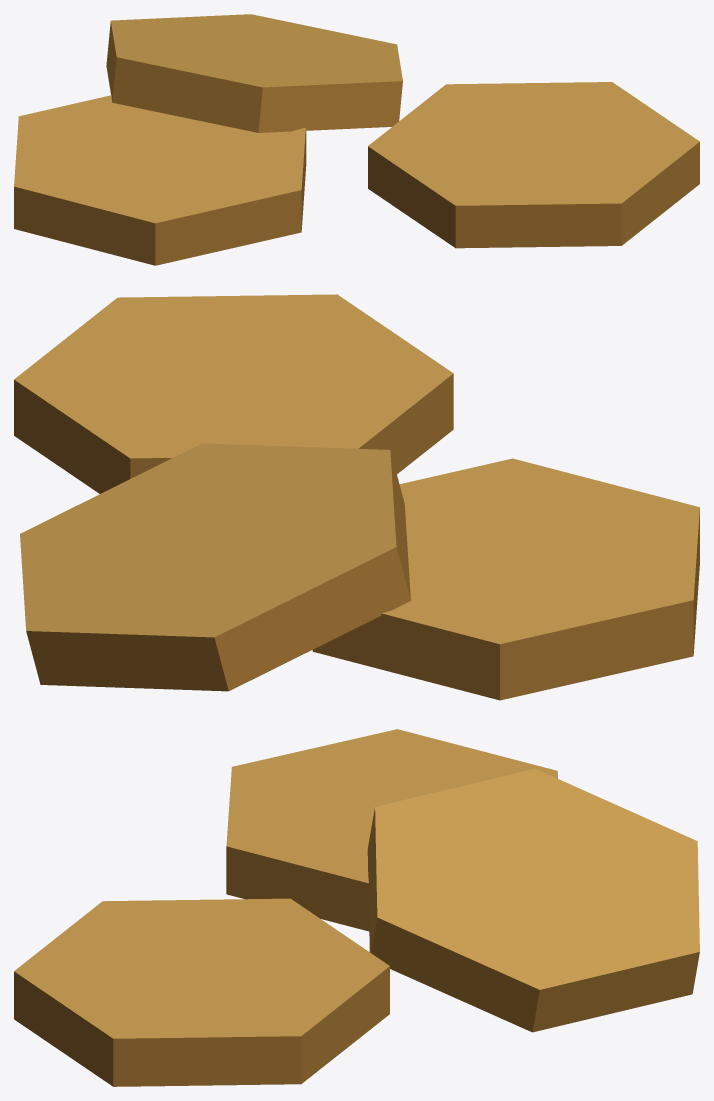
Rendered from SD_Prop_Coin_02.fbx.
The picture shows the model from 3 angles, top to bottom: view 1: azimuth 30°, elevation 25°; view 2: azimuth 150°, elevation 25°; view 3: azimuth 270°, elevation 25°; orthographic projection. The views are drawn at different scales.
Parts seen in each view (by area): view 1: SD_Prop_Coin_02; view 2: SD_Prop_Coin_02; view 3: SD_Prop_Coin_02.
Part boxes in pixels (bbox=[...]): SD_Prop_Coin_02: bbox=[14, 14, 699, 265]; SD_Prop_Coin_02: bbox=[14, 294, 699, 700]; SD_Prop_Coin_02: bbox=[14, 729, 699, 1086].
Bounding box in the file's own units: 0.3506 × 0.0628 × 0.3282.
